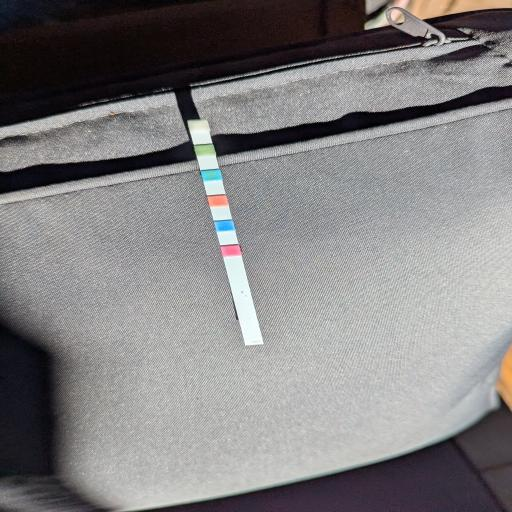strip: (186, 119, 266, 347)
